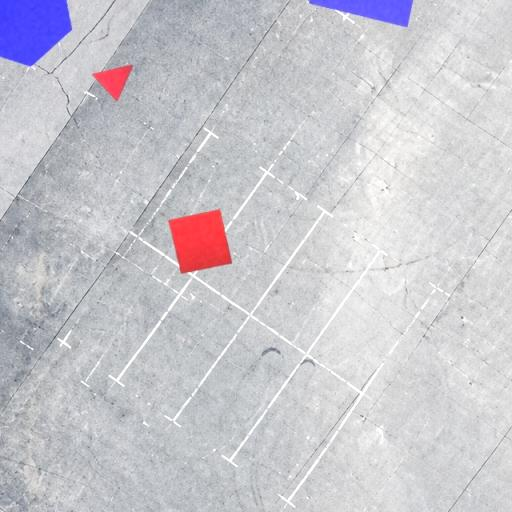RED_SQUARE: (168, 209, 233, 274)
